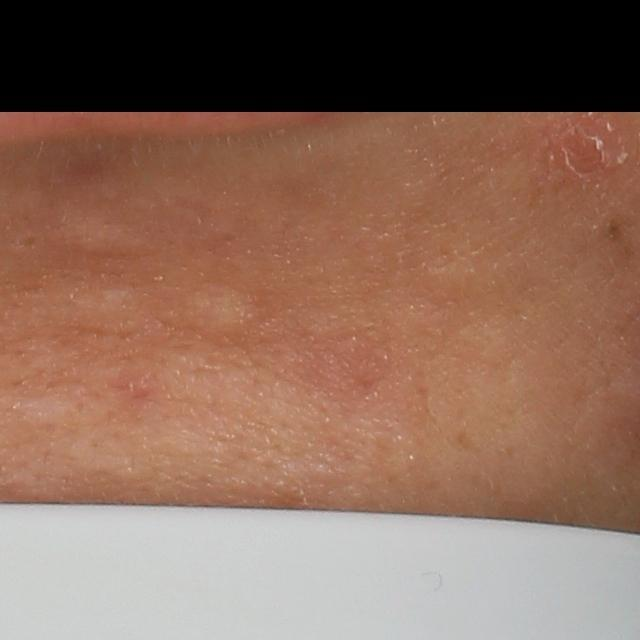hypertrophic_scar: (30, 281, 162, 330), (49, 213, 167, 262), (188, 280, 270, 336), (11, 393, 82, 431)
